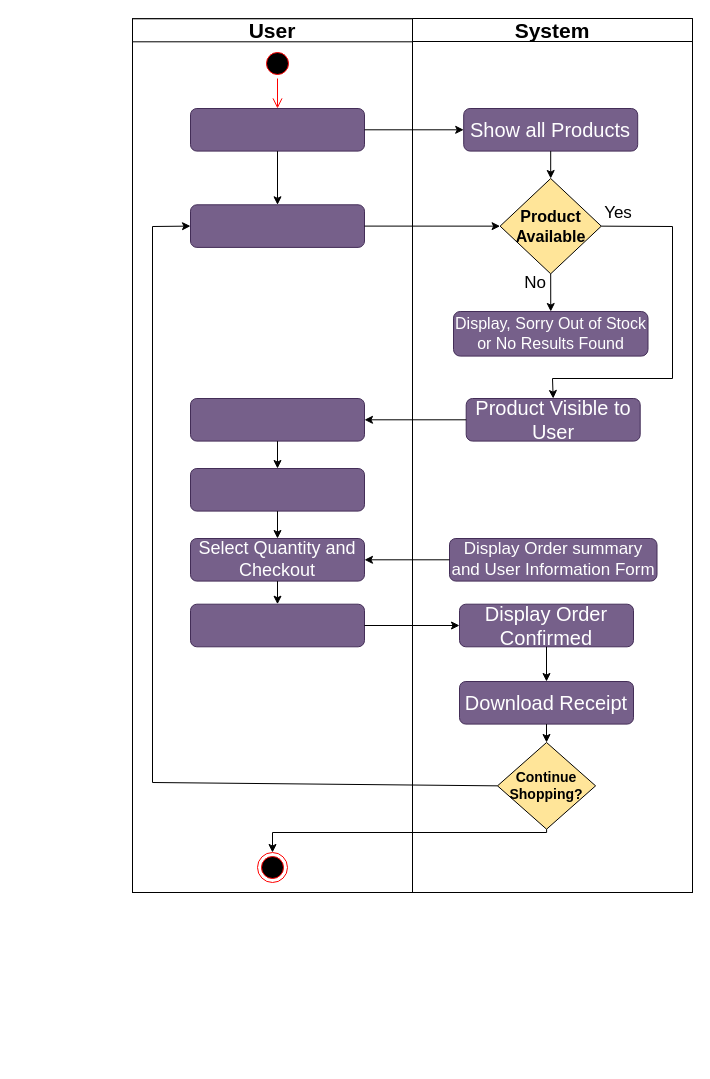
Some shapes in this 710 by 1079 pixel diagram are drawn without their labels. The shapes that lost their labels are listed below. From the top down, each one's box as (x1, y1, x2, y2) in pixels, then its label:
(190, 108, 364, 151): Search / View Products
(190, 204, 364, 247): Inquire for Desired Products
(190, 398, 364, 441): Select Product
(190, 468, 364, 511): Add to Cart
(190, 603, 364, 647): Input all Information and Do Payment
